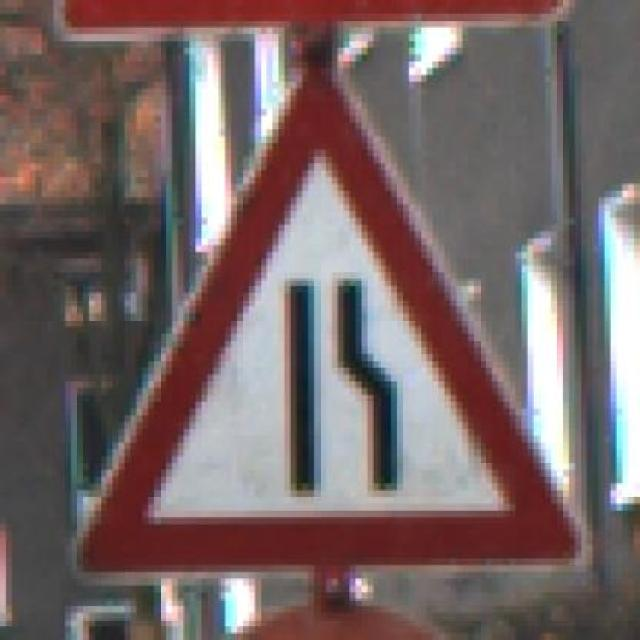-Road narrows on right: (64, 54, 598, 572)
